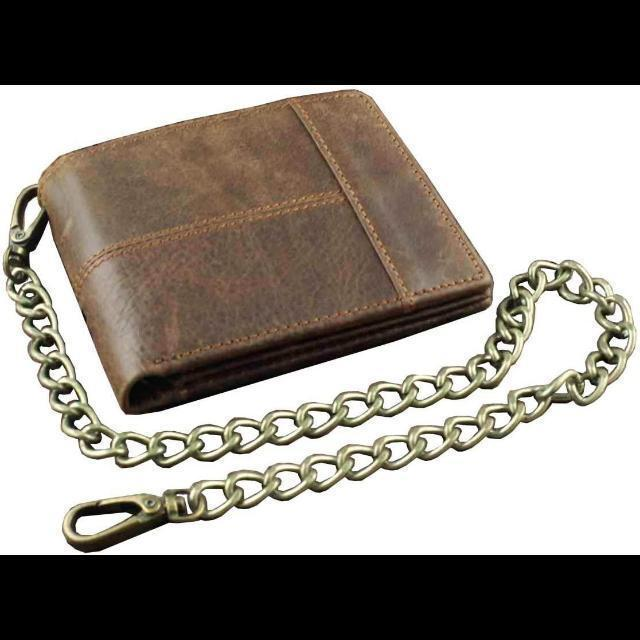wallet: (31, 84, 497, 414)
